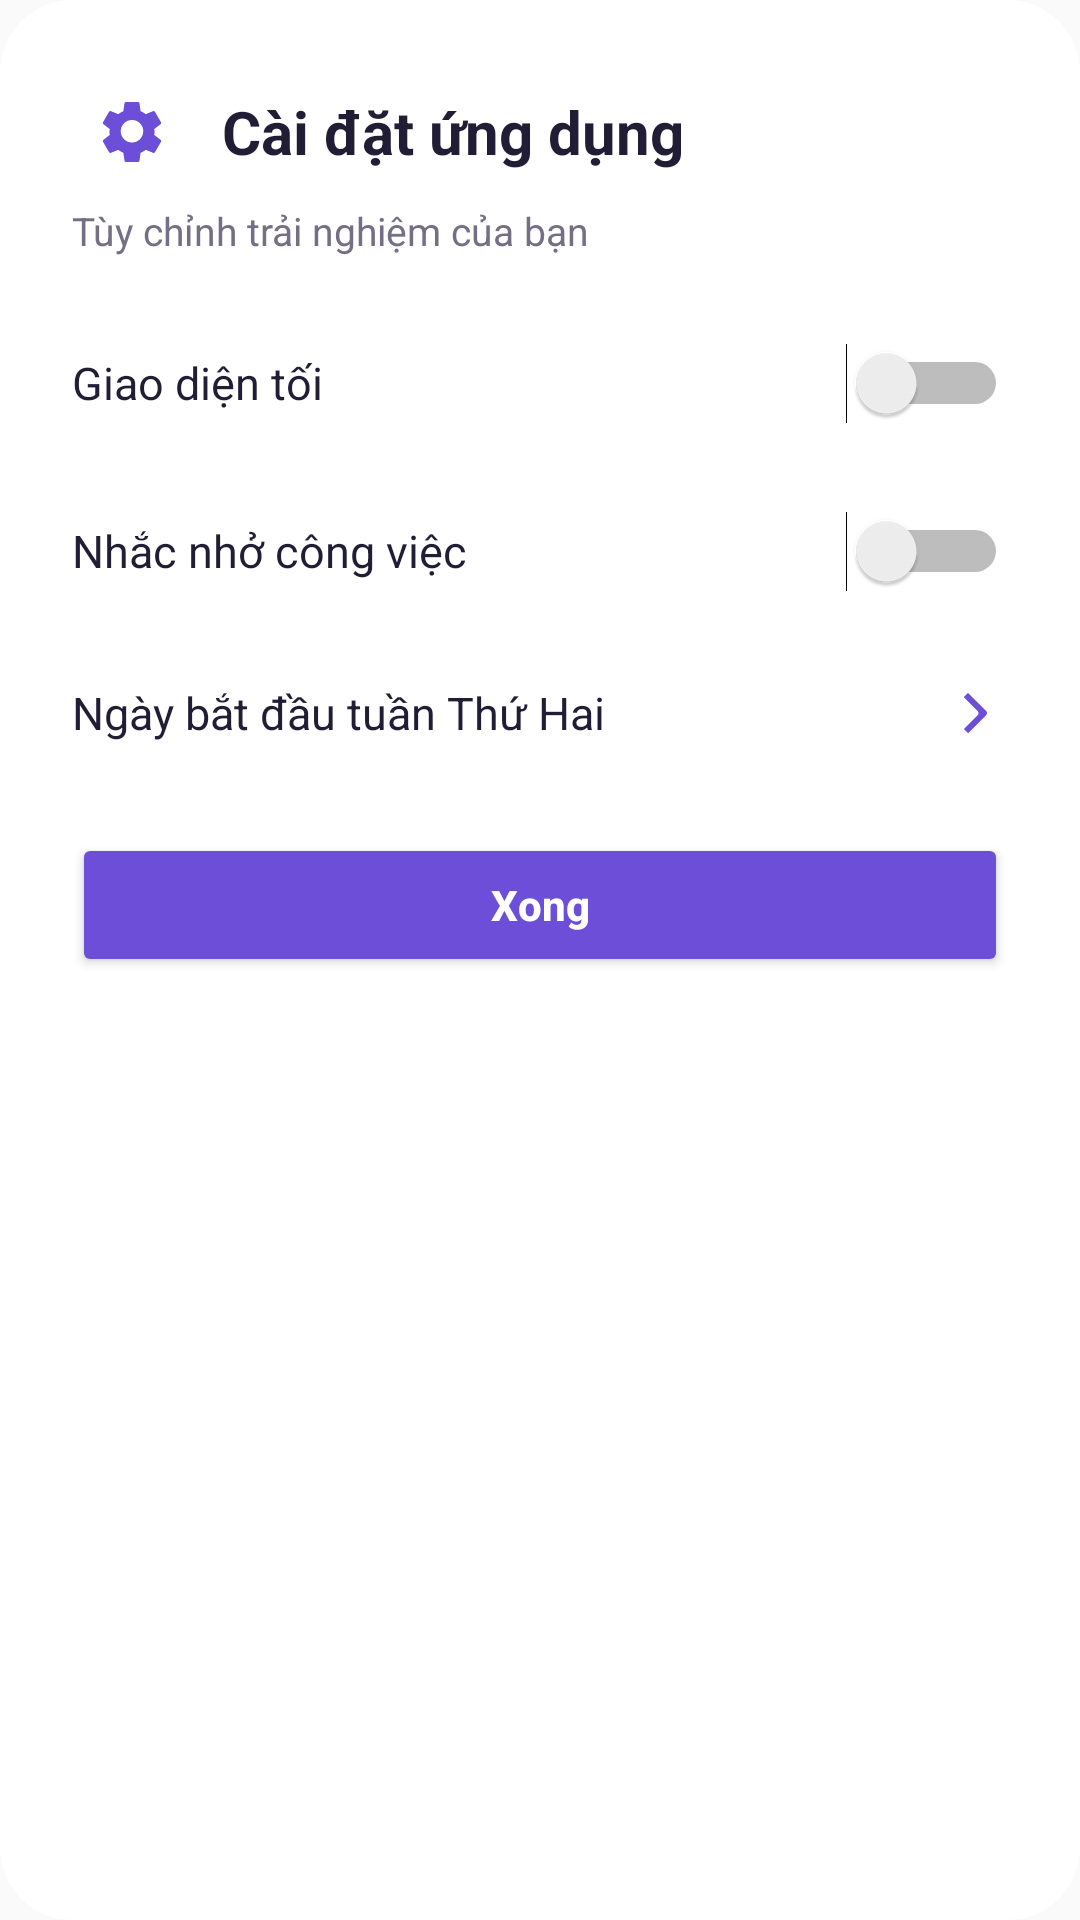

Named icons in this screenshot (1080*1920) and their bounding boxes, (x1, y1, x2, y2):
settings: (103, 102, 161, 162)
